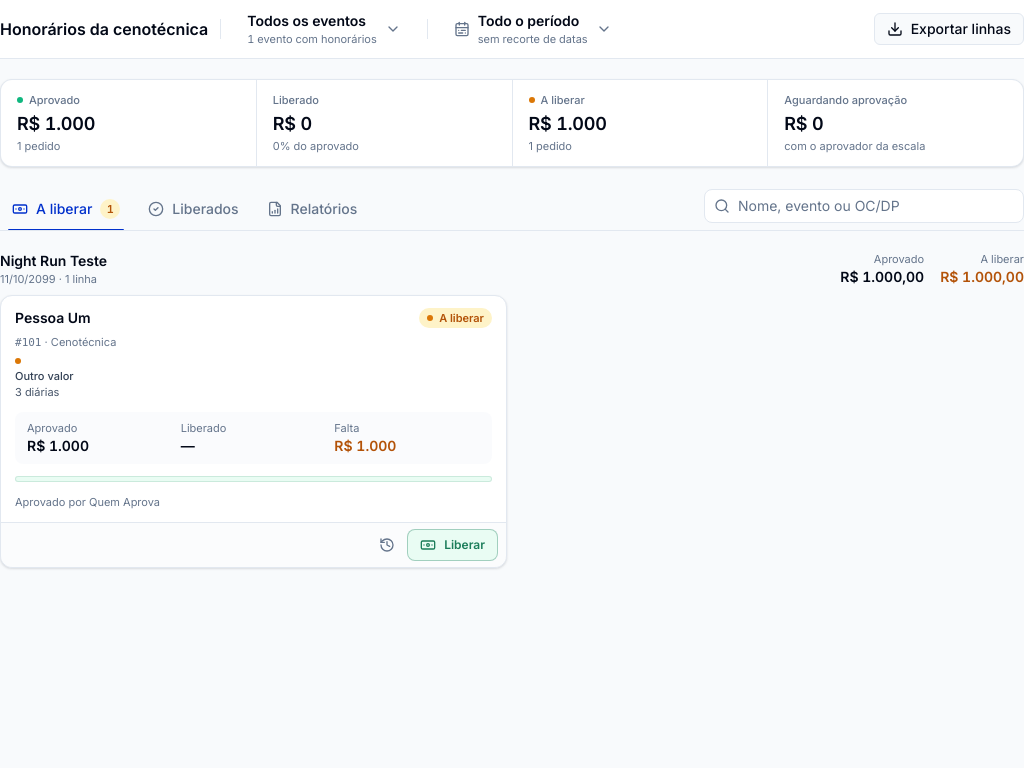
Test: Honorários — Financeiro › Esc fecha o diálogo de liberação e o foco volta ao botão que o abriu
The image size is (1024, 768).
Click the button with aria-label "Registrar liberação de Pessoa Um". click: (453,545)
box: [407,529,498,561]
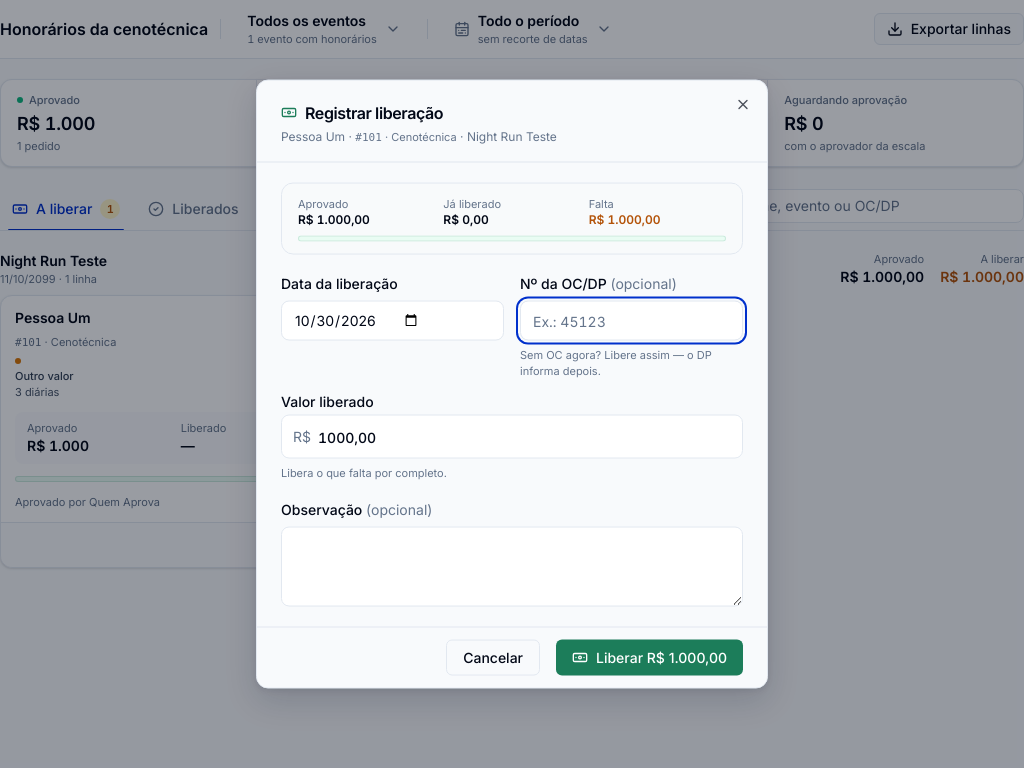
Press Escape
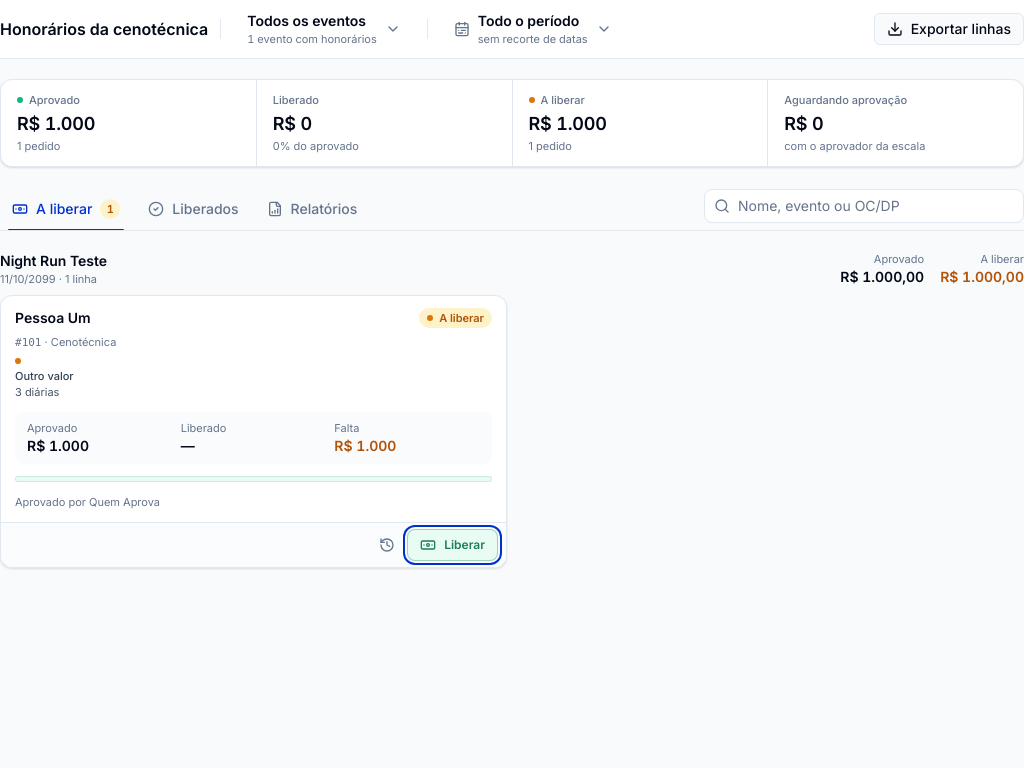
Expected: the dialog is gone
